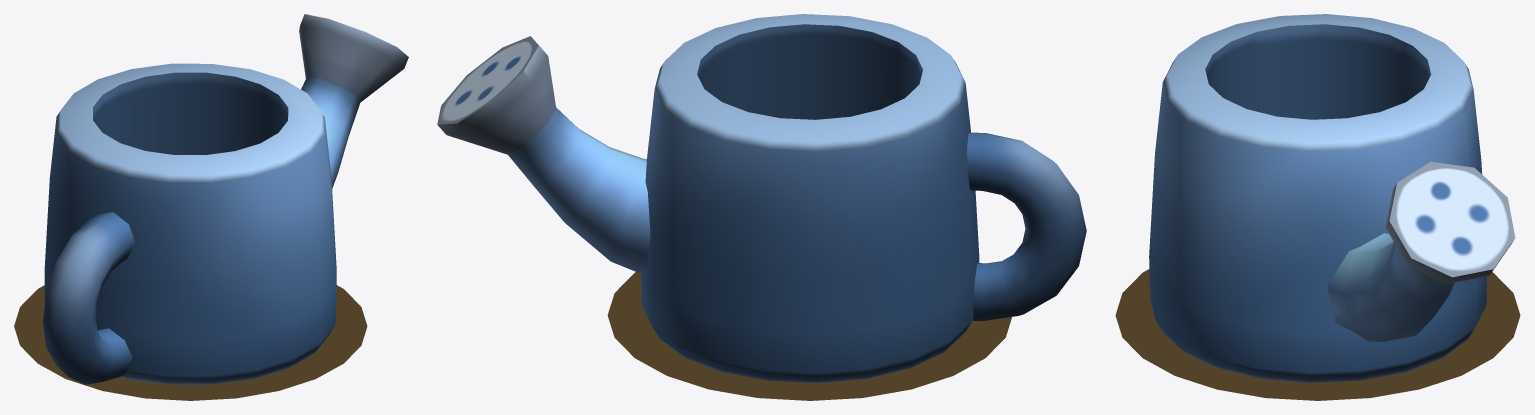
The model's file is WaterCan.fbx.
The picture shows the model from 3 angles, left to right: view 1: azimuth 30°, elevation 25°; view 2: azimuth 150°, elevation 25°; view 3: azimuth 270°, elevation 25°; orthographic projection. The views are drawn at different scales.
Visible parts, largest first — view 1: WaterCan_body, WaterCan_SDW; view 2: WaterCan_body, WaterCan_SDW; view 3: WaterCan_body, WaterCan_SDW.
Boxes of the visible parts, x1,y1,x2,y2 form: WaterCan_body: (43,14,408,384); WaterCan_SDW: (14,285,367,400); WaterCan_body: (437,14,1086,382); WaterCan_SDW: (607,272,1011,400); WaterCan_body: (1149,14,1515,382); WaterCan_SDW: (1115,269,1520,400).
Size of the model in its own units: 117 by 55.8 by 78.97.
Materials: 2 (1 with a texture image).
